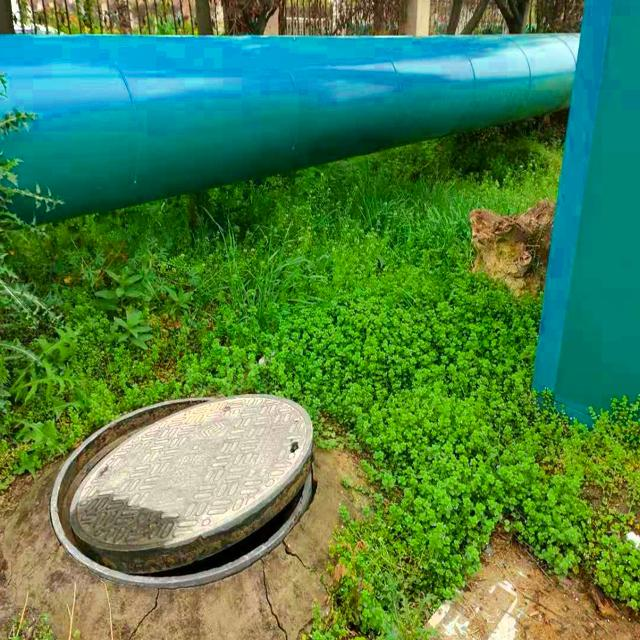uncovered: (50, 391, 316, 583)
